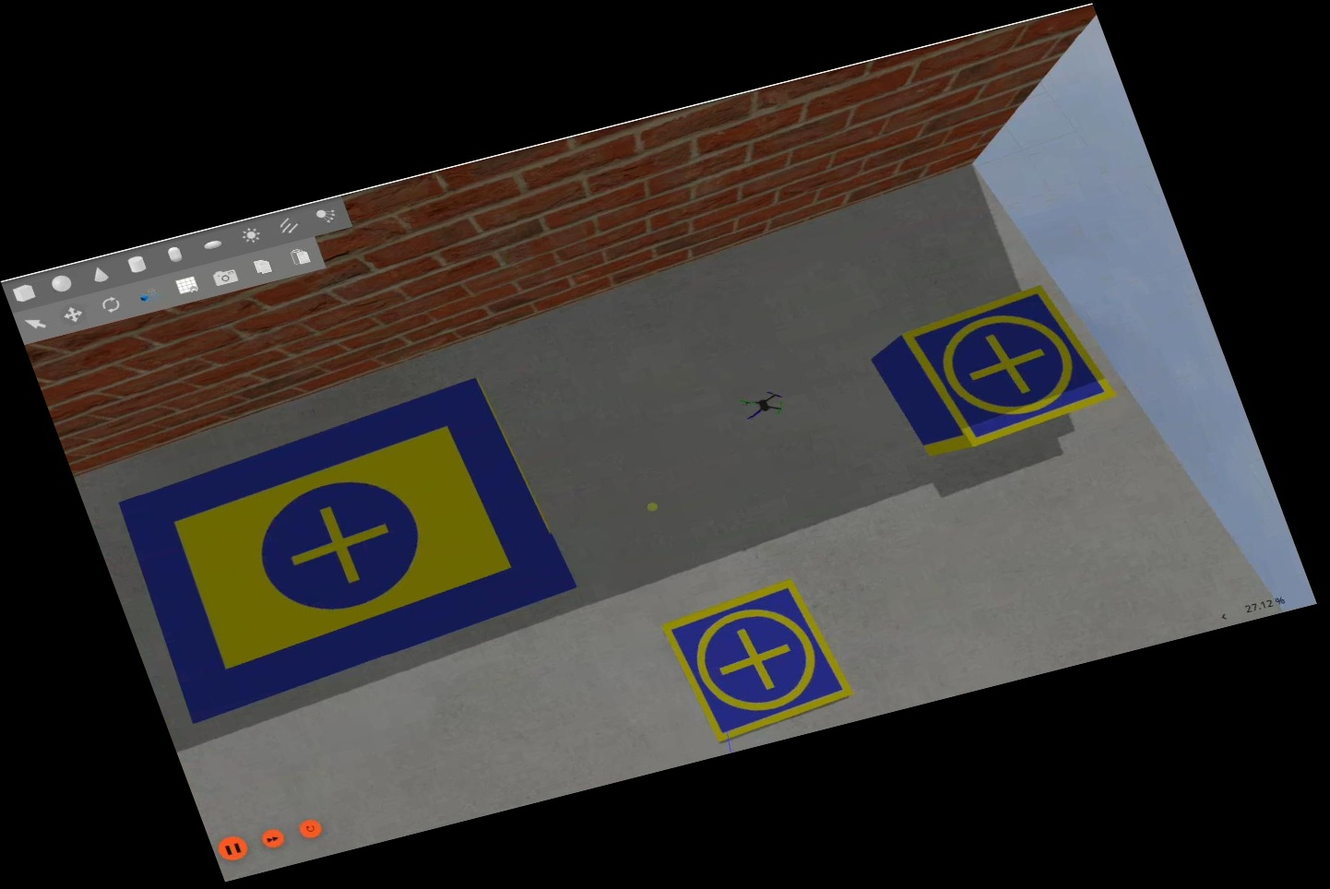large_base: (93, 368, 596, 729)
small_base: (893, 275, 1123, 455), (657, 576, 865, 753)
